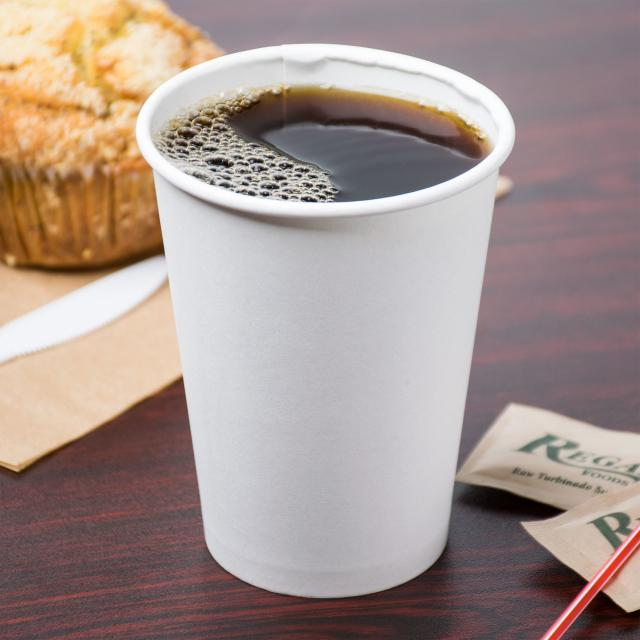cup: (135, 41, 520, 602)
